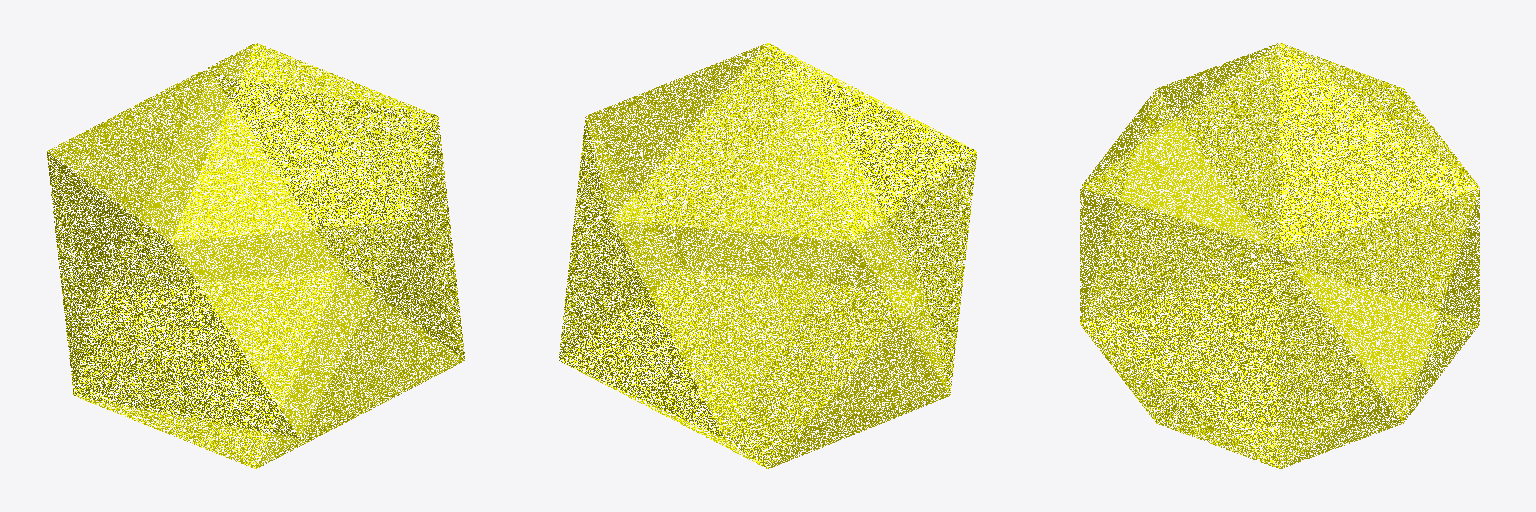
3 renders of one model, left to right at view 1: azimuth 30°, elevation 25°; view 2: azimuth 150°, elevation 25°; view 3: azimuth 270°, elevation 25°, orthographic.
Parts seen in each view (by area): view 1: Icosphere.003; view 2: Icosphere.003; view 3: Icosphere.003.
Part boxes in pixels (x1,y1,x2,y2): Icosphere.003: (47,43,464,468); Icosphere.003: (559,43,976,468); Icosphere.003: (1080,43,1479,468).
Size of the model in its own units: 0.1789 by 0.2 by 0.1701.
1 materials, 1 textured.